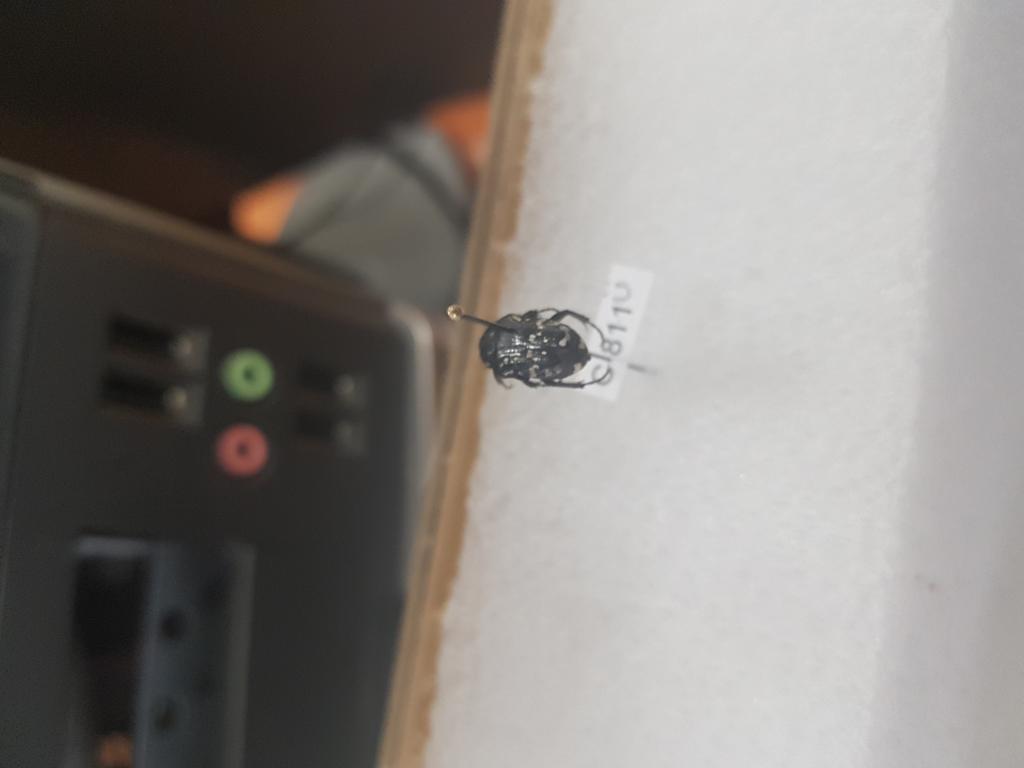Oxythyrea_albopicta: (471, 300, 614, 408)
